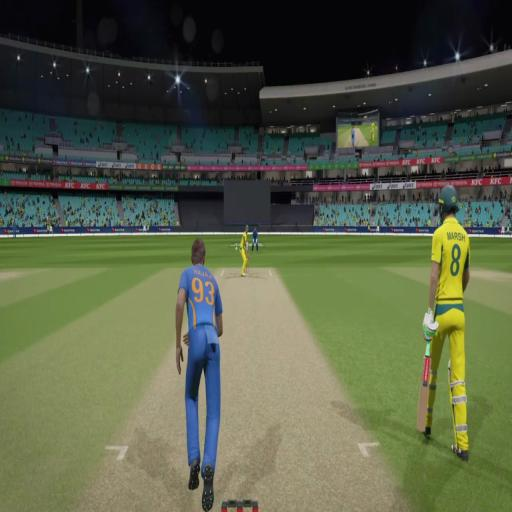ball: (235, 244, 239, 251)
